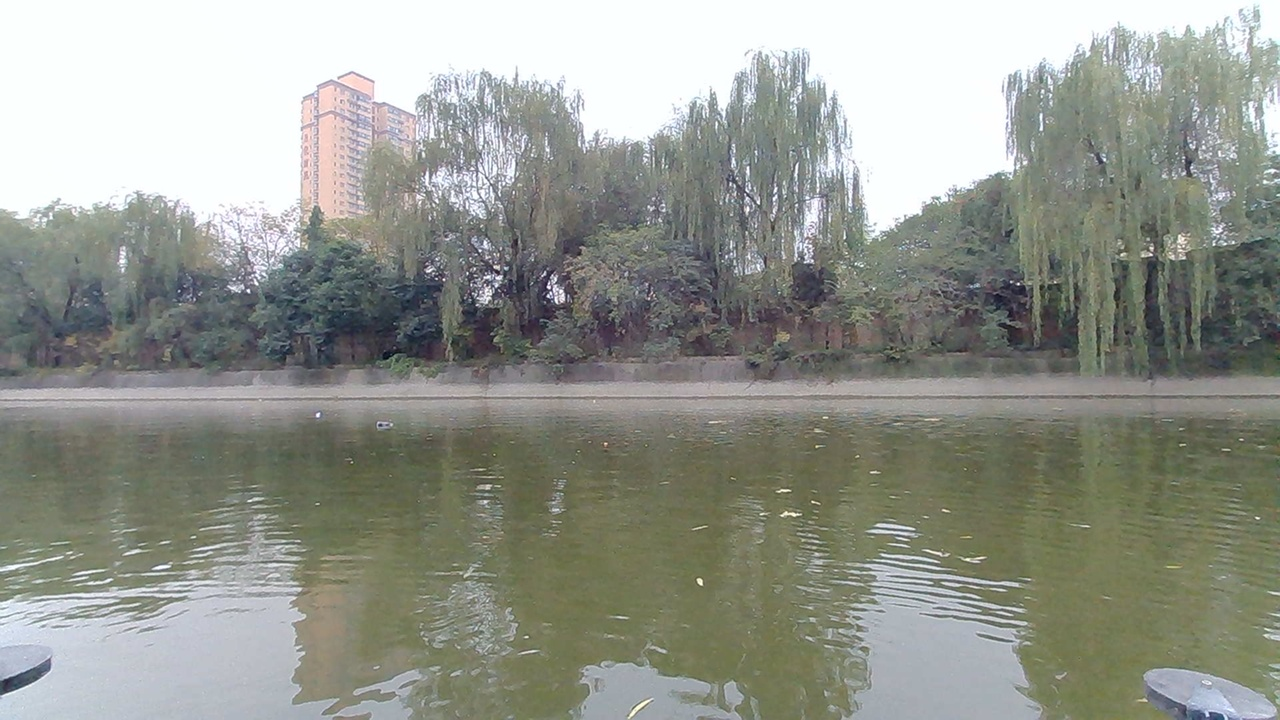bottle: (368, 411, 405, 435)
